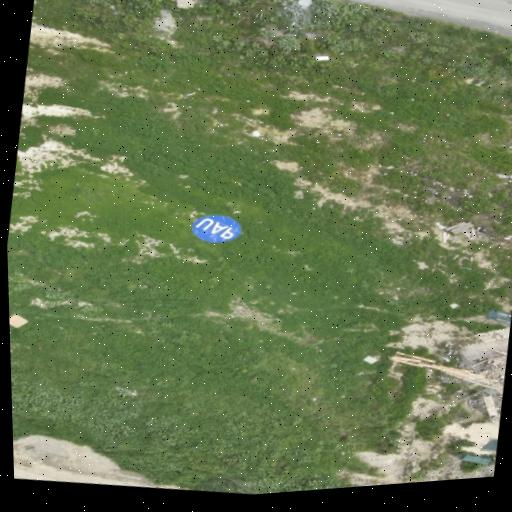uap: (191, 215, 240, 243)
